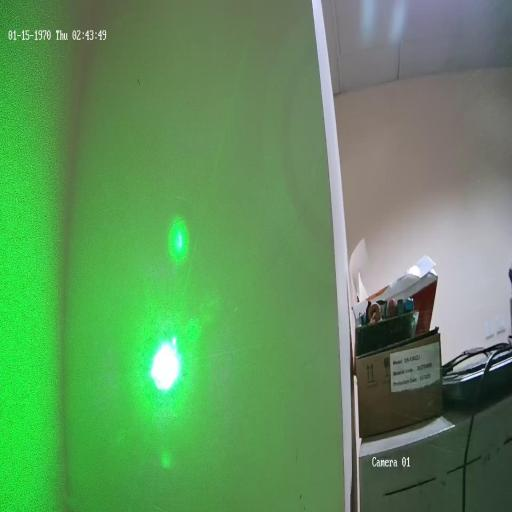laser: (145, 326, 186, 403)
